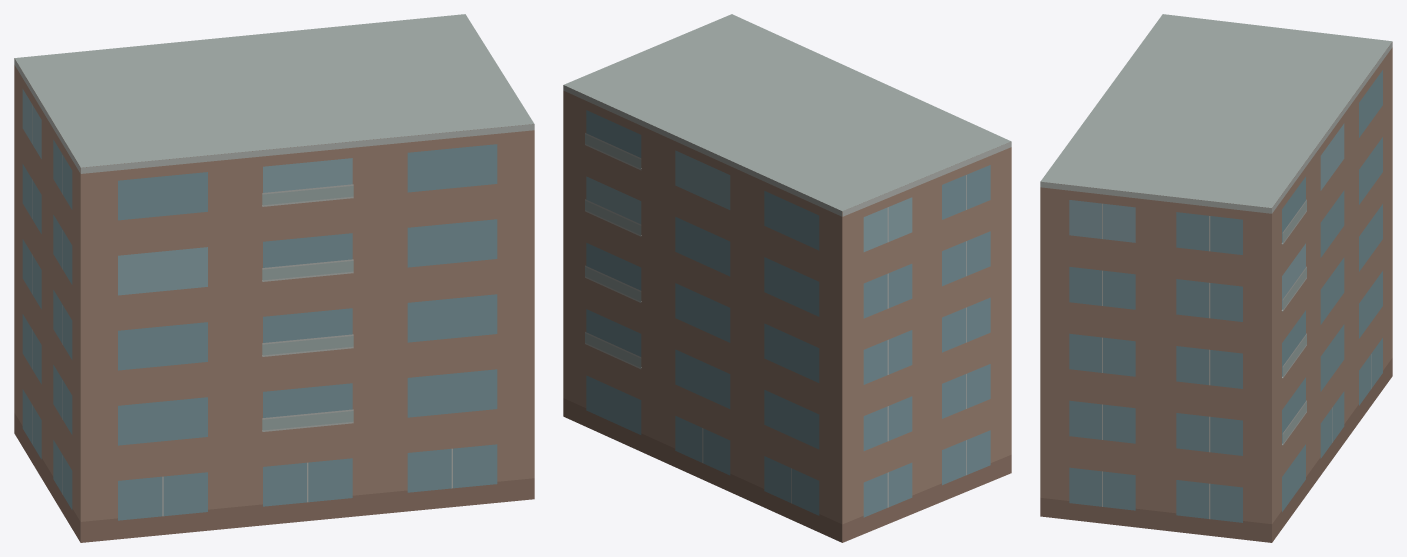
File: survey-upis-32653769.glb
3 views of the same model, side by side, from view 1: azimuth 30°, elevation 25°; view 2: azimuth 150°, elevation 25°; view 3: azimuth 270°, elevation 25° (orthographic). The views are drawn at different scales.
Visible parts, largest first — view 1: survey-upis-32653769.tmp; view 2: survey-upis-32653769.tmp; view 3: survey-upis-32653769.tmp.
Boxes of the visible parts, x1=… form: survey-upis-32653769.tmp: x1=14, y1=14, x2=534, y2=542; survey-upis-32653769.tmp: x1=563, y1=14, x2=1011, y2=542; survey-upis-32653769.tmp: x1=1040, y1=14, x2=1392, y2=542.
Bounding box in the file's own units: 17.92 × 14.4 × 13.75.
